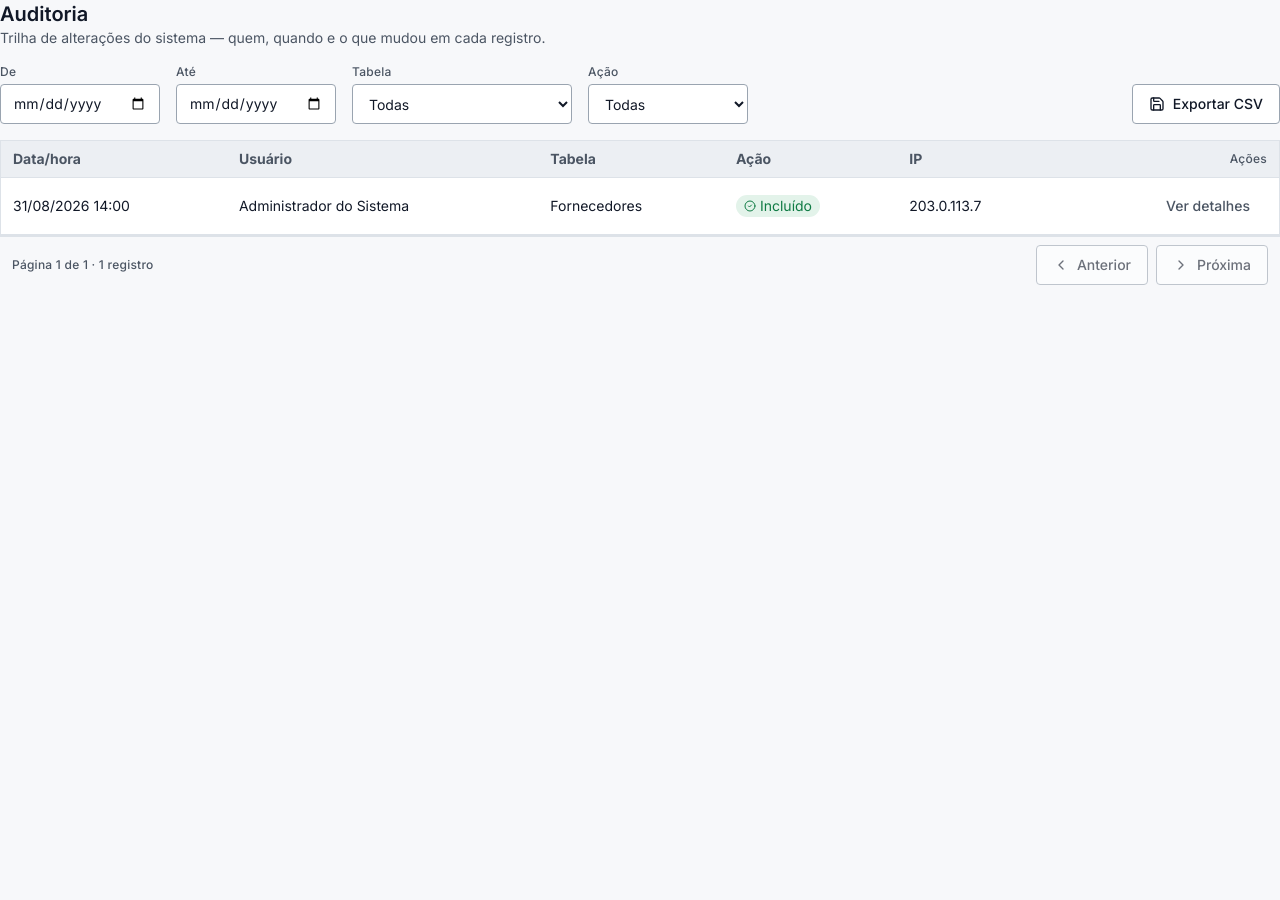
Test: Auditoria › Ver detalhes de um INSERT mostra so o valor novo, sem "anterior"
Step 1. Click the button "Ver detalhes" → [1208, 206], box x1=1149 y1=186 x2=1267 y2=226
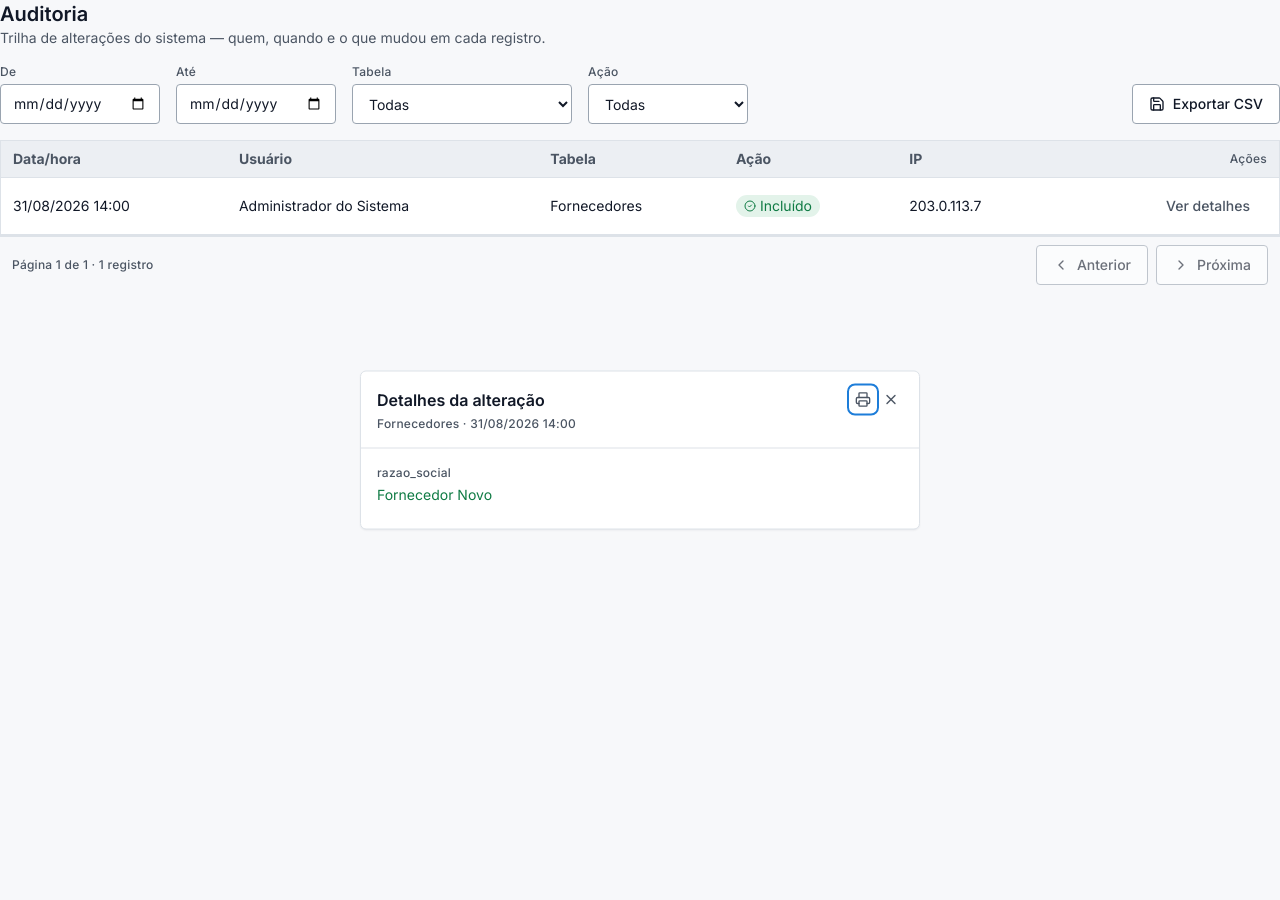
Expected: the text "razao_social" is shown, x1=377 y1=464 x2=451 y2=480
Expected: the text "Fornecedor Novo" is shown, x1=377 y1=486 x2=492 y2=502
